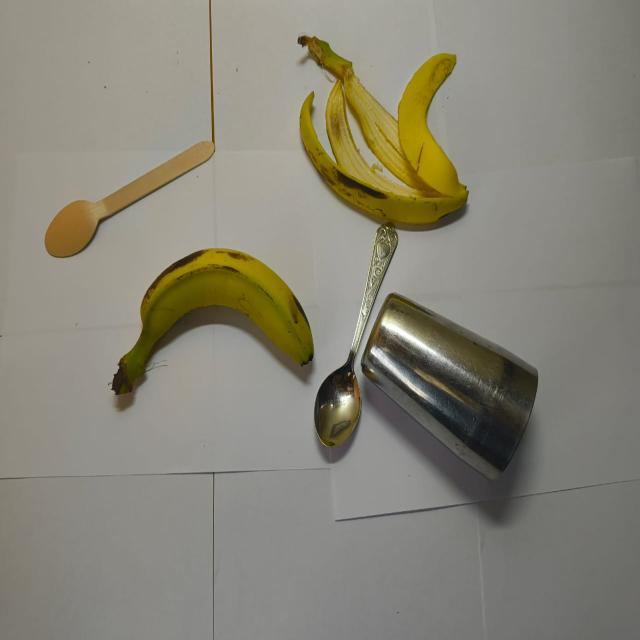Banana-Bio: (296, 28, 470, 229), (110, 244, 315, 400)
Steel-NonBio: (359, 292, 541, 486), (312, 225, 403, 452)
Wooden Spoon-Bio: (43, 131, 217, 264)
